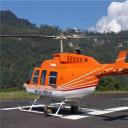helicopter: (4, 15, 128, 122)
